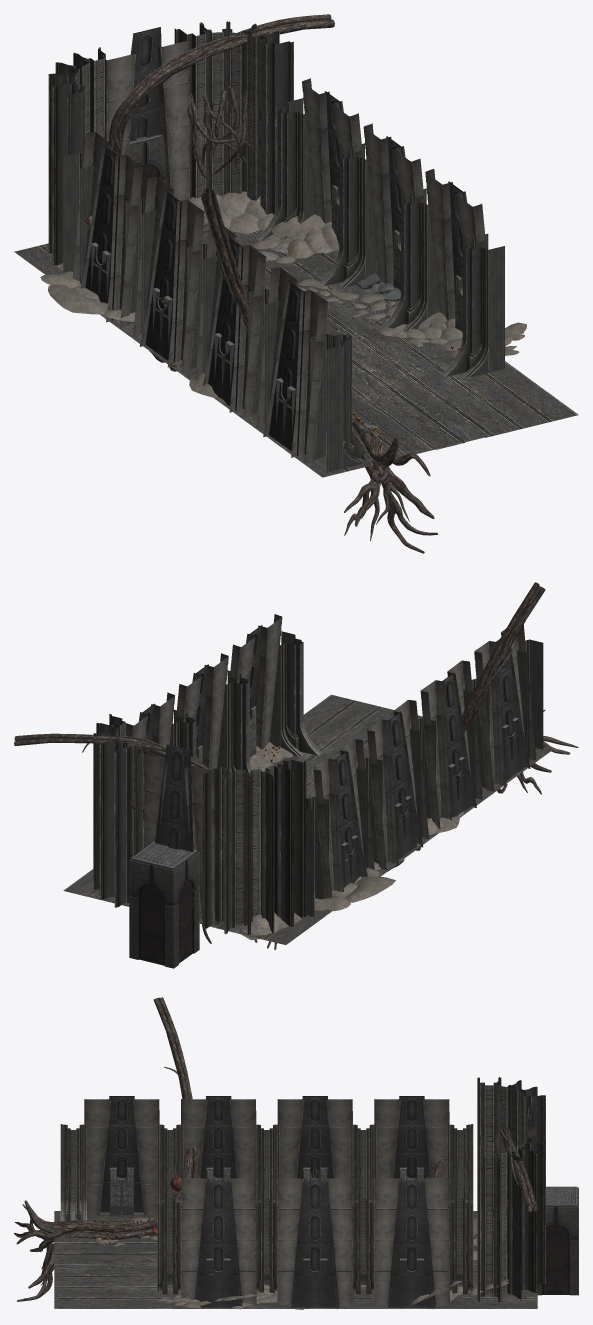
File: env_dath_kujets_tomb_02_pre.glb
3 views of the same model, one above another, from view 1: azimuth 30°, elevation 25°; view 2: azimuth 150°, elevation 25°; view 3: azimuth 270°, elevation 25° (orthographic). The views are drawn at different scales.
Visible parts, largest first — view 1: dath_kujet_wall_01 (×16), dath_kujet_floor_mesh, dath_kujet_column_01c (×10), dath_kujet_column_01a (4) (×2), dath_kujet_column_01a (2) (×2), dath_kujet_column_01a (×2), dath_kujet_column_01a (1) (×2), kash_flora_vine_root_01, dath_kujet_wall_section (×2), dath_kujet_wall_section (2) (×2), kash_flora_vine_root_01 (1), dath_kujet_wall_section (1) (×2) (+11 smaller); view 2: dath_kujet_wall_01 (×15), dath_kujet_column_01c (×9), dath_kujet_bridge_block, dath_kujet_floor_mesh, dath_kujet_column_01a (2) (×2), dath_kujet_column_01a (1) (×2), dath_kujet_wall_02, dath_kujet_wall_section (2) (×2), dath_kujet_wall_section (1) (×2), kash_flora_vine_root_01, dath_kujet_column_01a (4), dath_kujet_wall_section (3) (+7 smaller); view 3: dath_kujet_wall_01 (×14), dath_kujet_column_01c (×10), dath_kujet_floor_mesh, dath_kujet_wall_section (×2), dath_kujet_wall_section (1) (×2), dath_kujet_wall_section (2) (×2), kash_flora_vine_root_01, dath_kujet_column_01a (4) (×2), dath_kujet_column_01a (2) (×2), dath_kujet_column_01a (1) (×2), dath_kujet_column_01a (×2), dath_kujet_bridge_block (+4 smaller).
Part boxes in pixels (<box>): dath_kujet_wall_01 (×16): <box>72,39,486,463</box>; dath_kujet_floor_mesh: <box>14,230,578,477</box>; dath_kujet_column_01c (×10): <box>48,21,293,265</box>; dath_kujet_column_01a (4) (×2): <box>256,98,368,472</box>; dath_kujet_column_01a (2) (×2): <box>125,198,504,377</box>; dath_kujet_column_01a (×2): <box>248,143,378,426</box>; dath_kujet_column_01a (1) (×2): <box>186,188,439,373</box>; kash_flora_vine_root_01: <box>201,188,437,553</box>; dath_kujet_wall_section (×2): <box>269,91,341,455</box>; dath_kujet_wall_section (2) (×2): <box>145,181,464,362</box>; kash_flora_vine_root_01 (1): <box>108,14,334,155</box>; dath_kujet_wall_section (1) (×2): <box>208,136,403,410</box>; dath_kujet_wall_01 (×15): <box>142,614,536,925</box>; dath_kujet_column_01c (×9): <box>93,723,306,935</box>; dath_kujet_bridge_block: <box>129,841,199,968</box>; dath_kujet_floor_mesh: <box>63,694,553,944</box>; dath_kujet_column_01a (2) (×2): <box>269,631,382,868</box>; dath_kujet_column_01a (1) (×2): <box>217,670,435,837</box>; dath_kujet_wall_02: <box>155,744,194,908</box>; dath_kujet_wall_section (2) (×2): <box>248,625,417,863</box>; dath_kujet_wall_section (1) (×2): <box>194,664,471,818</box>; kash_flora_vine_root_01: <box>462,582,578,794</box>; dath_kujet_column_01a (4): <box>516,639,543,759</box>; dath_kujet_wall_section (3): <box>333,750,363,891</box>; dath_kujet_wall_01 (×14): <box>84,1098,449,1309</box>; dath_kujet_column_01c (×10): <box>477,1077,545,1302</box>; dath_kujet_floor_mesh: <box>54,1211,537,1308</box>; dath_kujet_wall_section (×2): <box>100,1096,435,1307</box>; dath_kujet_wall_section (1) (×2): <box>200,1096,339,1307</box>; dath_kujet_wall_section (2) (×2): <box>195,1096,333,1307</box>; kash_flora_vine_root_01: <box>14,997,198,1301</box>; dath_kujet_column_01a (4) (×2): <box>60,1124,473,1294</box>; dath_kujet_column_01a (2) (×2): <box>157,1124,376,1294</box>; dath_kujet_column_01a (1) (×2): <box>254,1124,279,1293</box>; dath_kujet_column_01a (×2): <box>157,1124,374,1294</box>; dath_kujet_bridge_block: <box>537,1186,578,1295</box>.
Bounding box in the file's own units: 34.62 × 29.35 × 58.45.
15 materials, 15 textured.
